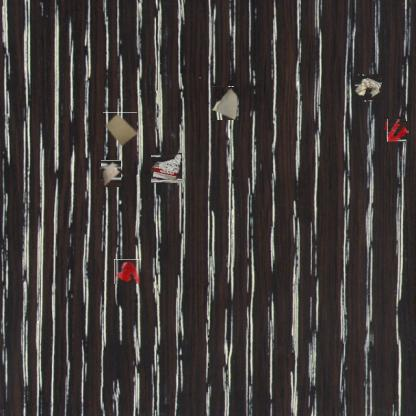dirty: (103, 112, 137, 147), (151, 152, 182, 184), (211, 86, 239, 120), (355, 75, 381, 101), (100, 162, 123, 186)
liquid: (114, 259, 141, 284), (386, 120, 408, 141)
